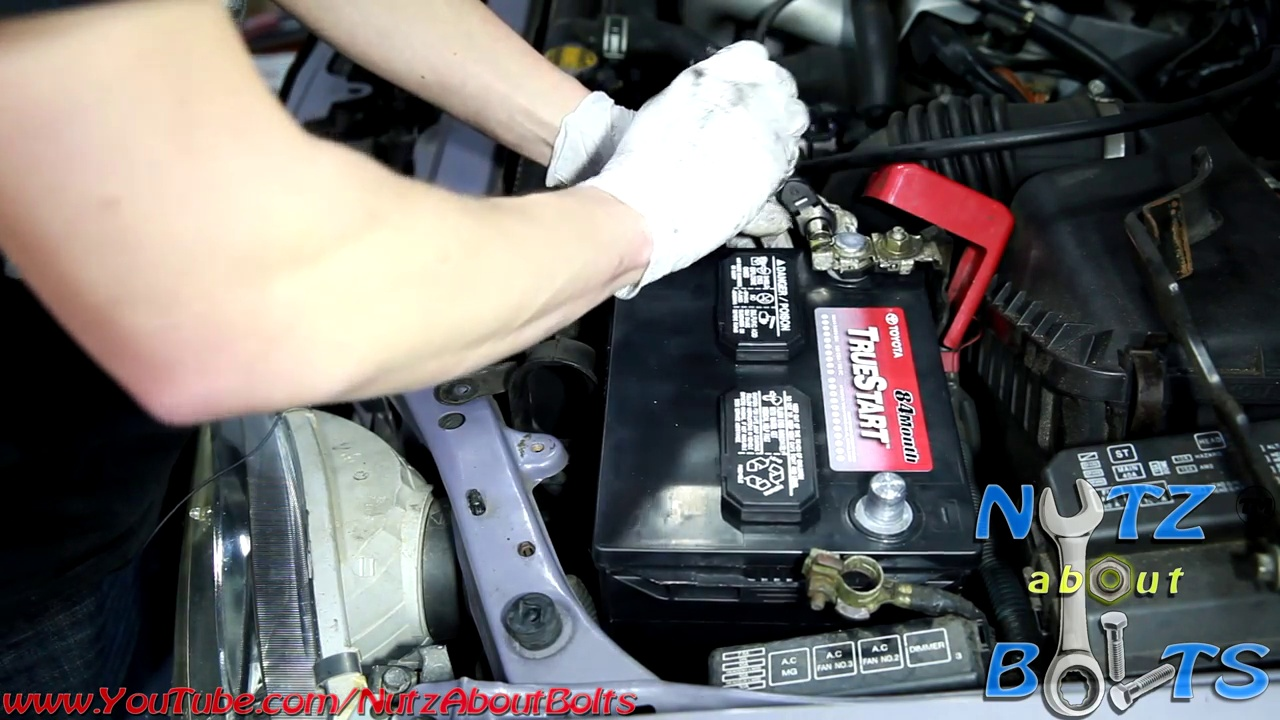battery: (586, 167, 981, 616)
neg_disconnected: (790, 443, 919, 608)
pos_connected: (791, 173, 990, 298)
pos_touched: (691, 89, 1012, 313)
